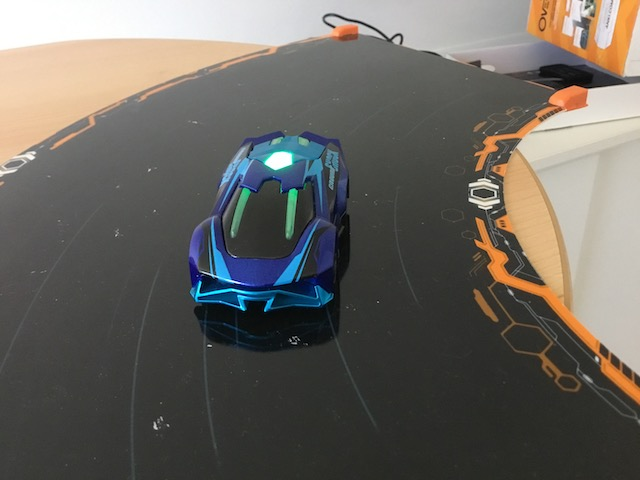car-blue: (182, 125, 356, 320)
